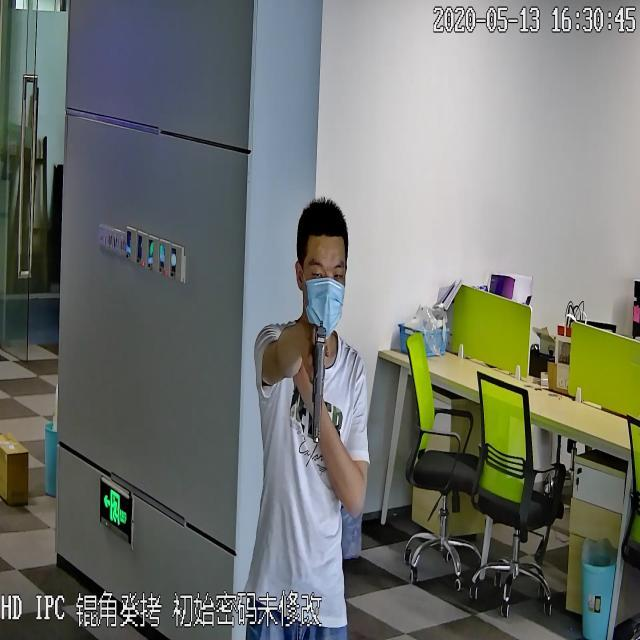gun: (303, 315, 335, 445)
